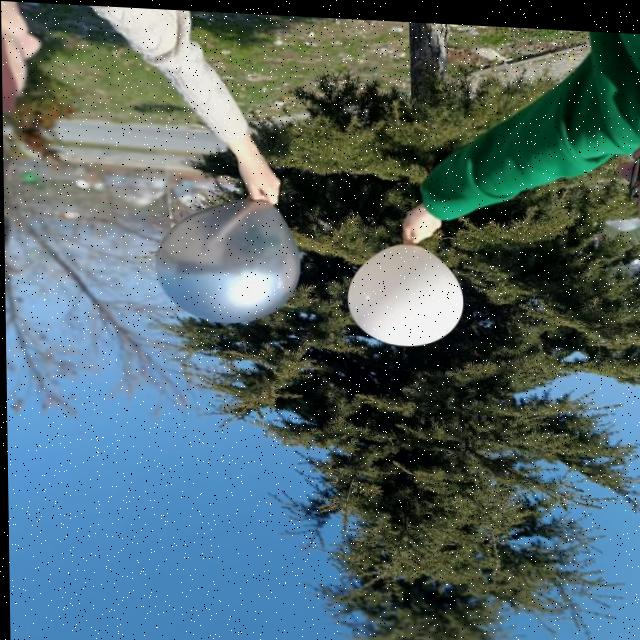balloon: (142, 189, 311, 329), (344, 227, 464, 349)
